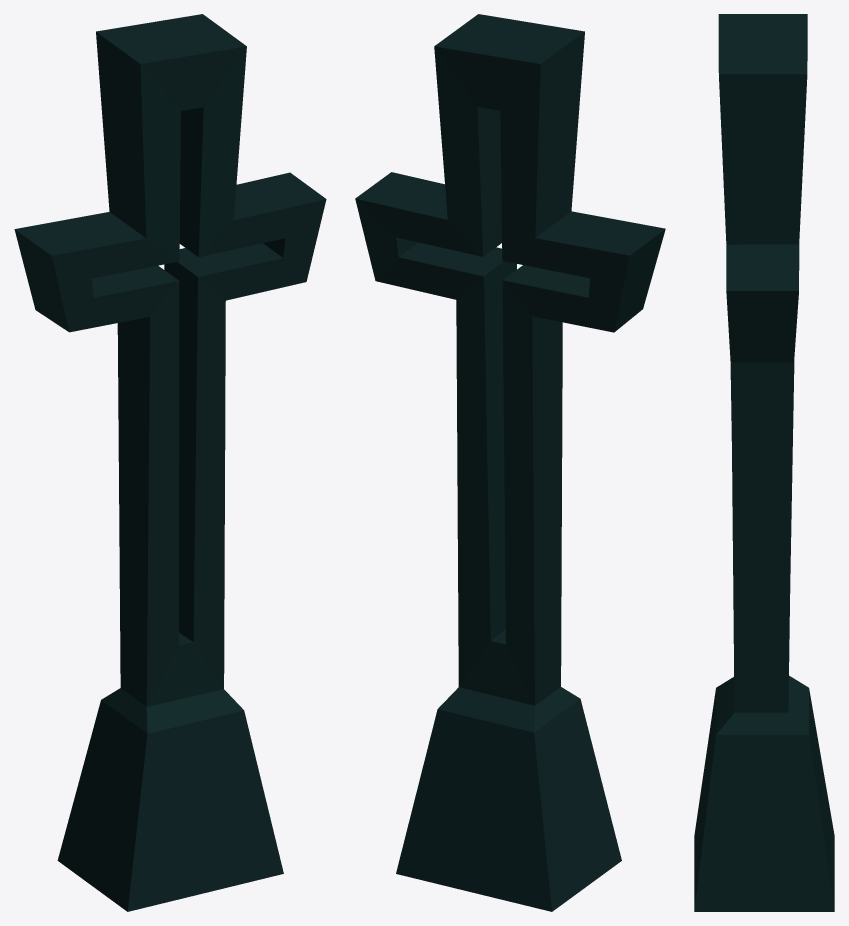
The model's file is cross_01_stone_0_lev1.glb.
The picture shows the model from 3 angles, left to right: view 1: azimuth 30°, elevation 25°; view 2: azimuth 150°, elevation 25°; view 3: azimuth 270°, elevation 25°; orthographic projection.
Visible parts, largest first — view 1: cross_01_stone_0_lev1; view 2: cross_01_stone_0_lev1; view 3: cross_01_stone_0_lev1.
Boxes of the visible parts, x1=… form: cross_01_stone_0_lev1: x1=14, y1=14, x2=326, y2=911; cross_01_stone_0_lev1: x1=355, y1=14, x2=665, y2=911; cross_01_stone_0_lev1: x1=694, y1=14, x2=834, y2=911.
Bounding box in the file's own units: 0.2542 × 0.7347 × 0.112.
